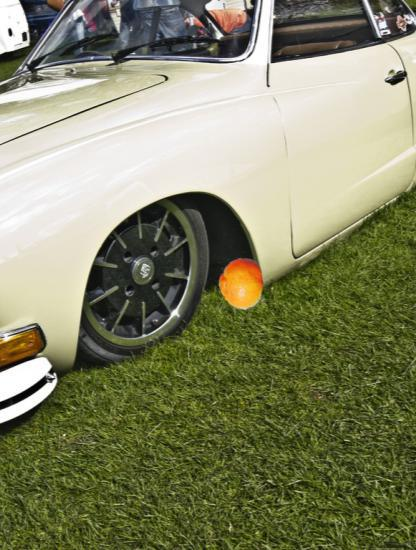Mandarine: (215, 258, 268, 311)
